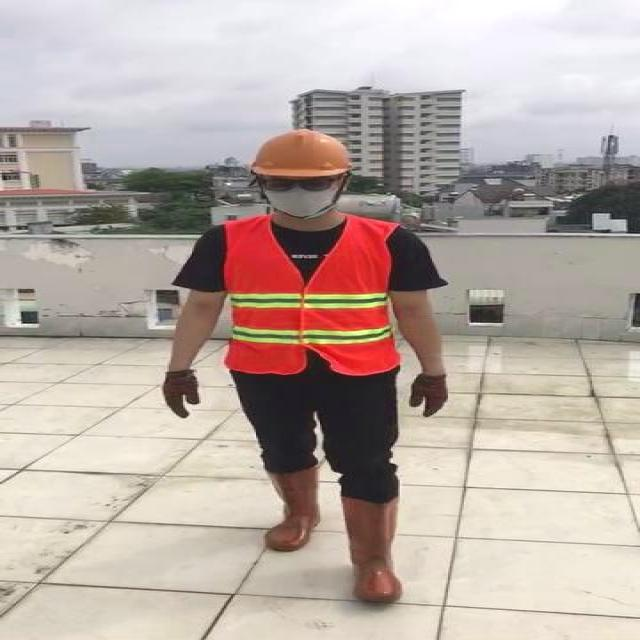boots: (342, 495, 404, 604), (258, 466, 322, 551)
face_mask: (258, 170, 340, 218)
glasses: (256, 170, 341, 196)
hand_glove: (407, 374, 452, 417), (160, 371, 199, 418)
head_helmet: (249, 124, 361, 178)
person: (148, 124, 460, 606)
vest: (228, 218, 398, 376)
